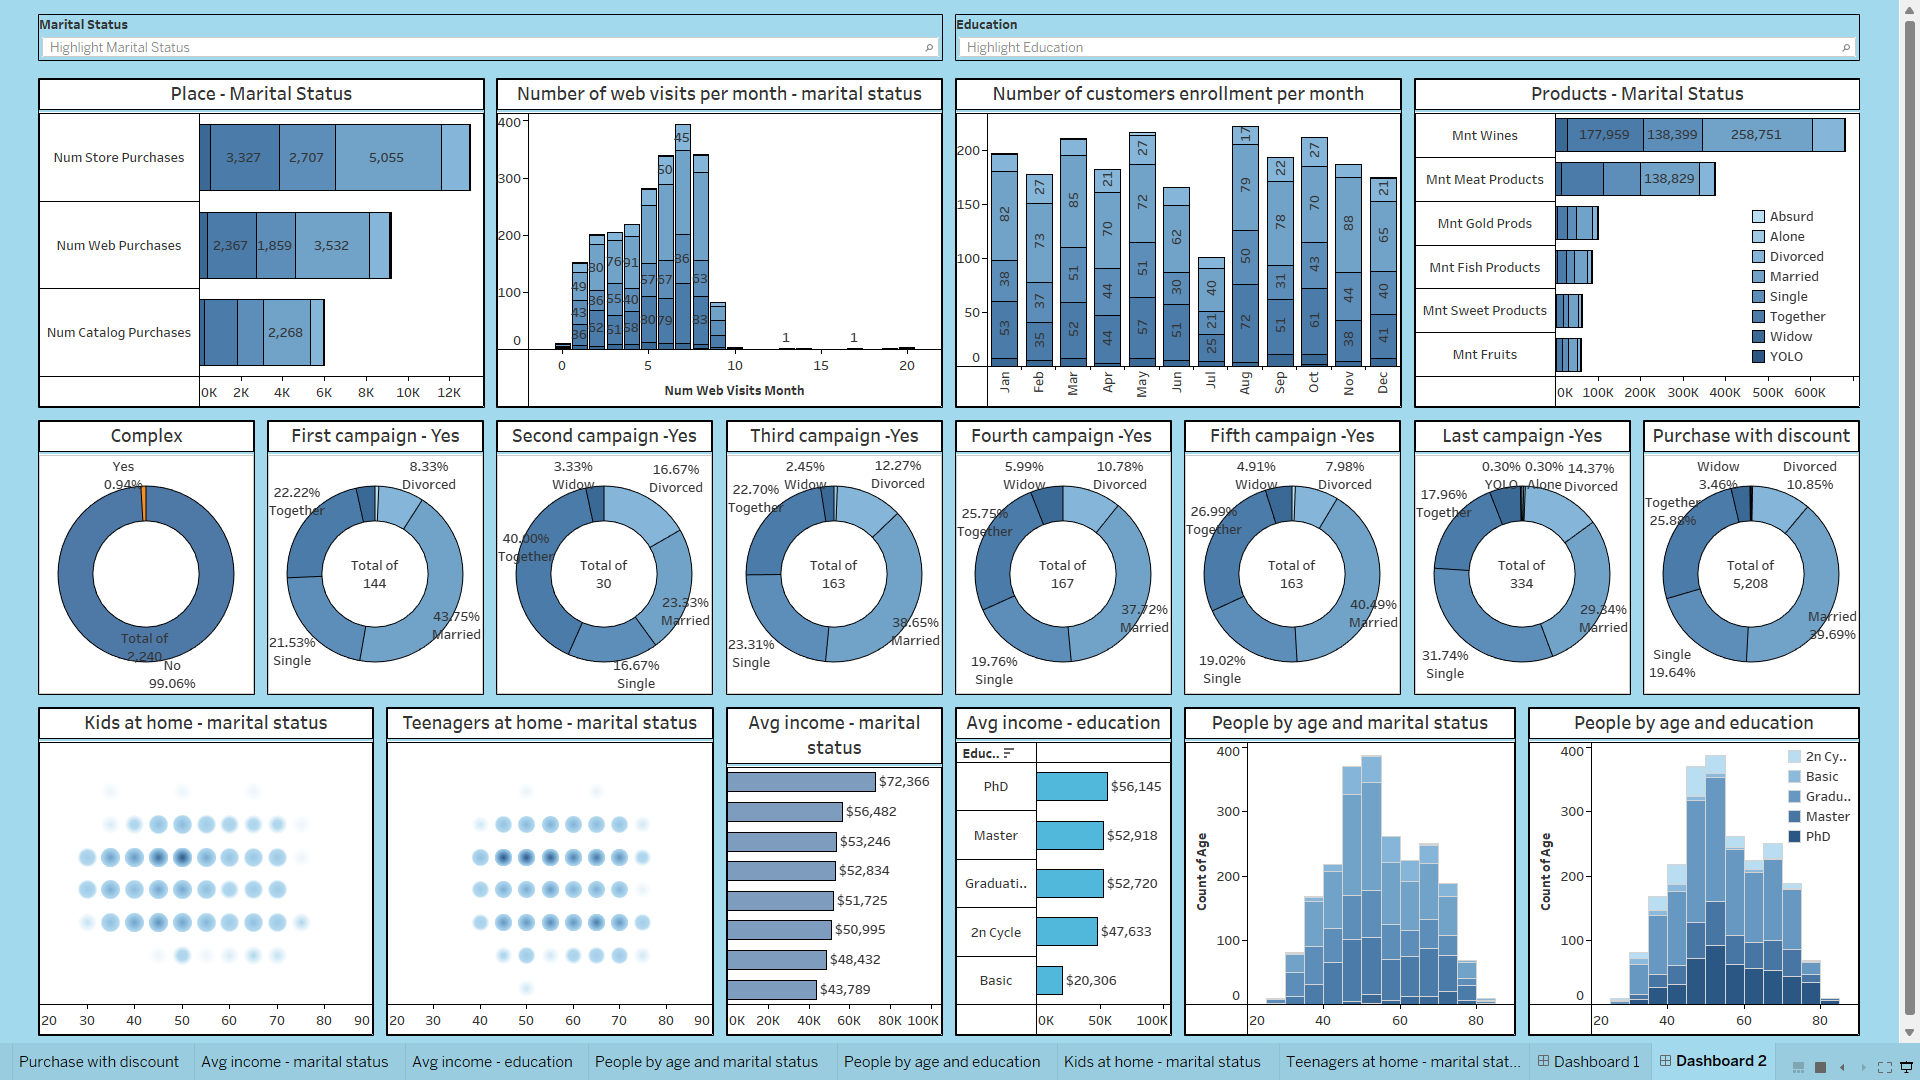

This screenshot's page, from the dashboard's own definition file:
{"tool":"tableau","page":{"name":"Dashboard 2","canvas":[1850,1050],"ordinal":1},"visuals":[{"type":"highlighter","title":"Place - Marital Status","param":"[federated.1ji5cvr06afofg13aah5p1n29ge8].[none:Marital_Status:nk]","box":[8,8,917,59]},{"type":"highlighter","title":"People by age and education","param":"[federated.1ji5cvr06afofg13aah5p1n29ge8].[none:Education:nk]","box":[925,8,917,59]},{"type":"worksheet","title":"Place - Marital Status","mark":"Automatic","box":[8,72,458.5,342]},{"type":"worksheet","title":"Number of web visits per month - marital status","mark":"Bar","rows":["ID"],"cols":["NumWebVisitsMonth"],"box":[466.5,72,458.5,342]},{"type":"worksheet","title":"Number of customers enrollment per month","mark":"Bar","rows":["ID"],"cols":["Dt_Customer"],"box":[925,72,458.5,342]},{"type":"worksheet","title":"Products - Marital Status","mark":"Bar","box":[1383.5,72,458.5,342]},{"type":"legend","title":"Place - Marital Status","param":"[federated.1ji5cvr06afofg13aah5p1n29ge8].[none:Marital_Status:nk]","box":[1724,206,110,164]},{"type":"worksheet","title":"Complex","mark":"Pie","rows":["Calculation_1702360723562647555","Calculation_1702360723562647555"],"box":[8,414,229.3,287]},{"type":"worksheet","title":"First campaign - Yes","mark":"Pie","rows":["Calculation_1702360723562647555","Calculation_1702360723562647555"],"box":[237.2,414,229.3,287]},{"type":"worksheet","title":"Second campaign -Yes","mark":"Pie","rows":["Calculation_1702360723562647555","Calculation_1702360723562647555"],"box":[466.5,414,229.3,287]},{"type":"worksheet","title":"Third campaign -Yes","mark":"Pie","rows":["Calculation_1702360723562647555","Calculation_1702360723562647555"],"box":[695.7,414,229.3,287]},{"type":"worksheet","title":"Fourth campaign -Yes ","mark":"Pie","rows":["Calculation_1702360723562647555","Calculation_1702360723562647555"],"box":[925,414,229.3,287]},{"type":"worksheet","title":"Fifth campaign -Yes","mark":"Pie","rows":["Calculation_1702360723562647555","Calculation_1702360723562647555"],"box":[1154.3,414,229.3,287]},{"type":"worksheet","title":"Last campaign -Yes","mark":"Pie","rows":["Calculation_1702360723562647555","Calculation_1702360723562647555"],"box":[1383.5,414,229.3,287]},{"type":"worksheet","title":"Purchase with discount","mark":"Pie","rows":["Calculation_1702360723562647555","Calculation_1702360723562647555"],"box":[1612.8,414,229.3,287]},{"type":"worksheet","title":"Kids at home - marital status","mark":"Heatmap","rows":["Marital_Status"],"cols":["Age (bin)"],"box":[8,701,348,341]},{"type":"worksheet","title":"Teenagers at home - marital status","mark":"Heatmap","rows":["Marital_Status"],"cols":["Age (bin)"],"box":[356,701,339.8,341]},{"type":"worksheet","title":"Avg income - marital status","mark":"Bar","rows":["Marital_Status"],"cols":["Income"],"box":[695.7,701,229.3,341]},{"type":"worksheet","title":"Avg income - education","mark":"Bar","rows":["Education"],"cols":["Income"],"box":[925,701,229.3,341]},{"type":"worksheet","title":"People by age and marital status","mark":"Automatic","rows":["Calculation_1702360723568152581"],"cols":["Age (bin)"],"box":[1154.3,701,343.9,341]},{"type":"worksheet","title":"People by age and education","mark":"Automatic","rows":["Calculation_1702360723568152581"],"cols":["Age (bin)"],"box":[1498.1,701,343.9,341]},{"type":"legend","title":"People by age and education","param":"[federated.1ji5cvr06afofg13aah5p1n29ge8].[none:Education:nk]","box":[1760,746,73,104]}]}

Visuals, with their boxes on the page's 1850x1050 design canvas (x1, y1, x2, y2). These are canvas units, not pixel positions in the 1920x1080 screenshot, which may show the page scaled, cropped or inside an application window:
"Place - Marital Status" highlighter: 8 8 925 67
"People by age and education" highlighter: 925 8 1842 67
"Place - Marital Status" worksheet: 8 72 466 414
"Number of web visits per month - marital status" worksheet (Bar marks): 466 72 925 414
"Number of customers enrollment per month" worksheet (Bar marks): 925 72 1384 414
"Products - Marital Status" worksheet (Bar marks): 1384 72 1842 414
"Place - Marital Status" legend: 1724 206 1834 370
"Complex" worksheet (Pie marks): 8 414 237 701
"First campaign - Yes" worksheet (Pie marks): 237 414 466 701
"Second campaign -Yes" worksheet (Pie marks): 466 414 696 701
"Third campaign -Yes" worksheet (Pie marks): 696 414 925 701
"Fourth campaign -Yes " worksheet (Pie marks): 925 414 1154 701
"Fifth campaign -Yes" worksheet (Pie marks): 1154 414 1384 701
"Last campaign -Yes" worksheet (Pie marks): 1384 414 1613 701
"Purchase with discount" worksheet (Pie marks): 1613 414 1842 701
"Kids at home - marital status" worksheet (Heatmap marks): 8 701 356 1042
"Teenagers at home - marital status" worksheet (Heatmap marks): 356 701 696 1042
"Avg income - marital status" worksheet (Bar marks): 696 701 925 1042
"Avg income - education" worksheet (Bar marks): 925 701 1154 1042
"People by age and marital status" worksheet: 1154 701 1498 1042
"People by age and education" worksheet: 1498 701 1842 1042
"People by age and education" legend: 1760 746 1833 850
